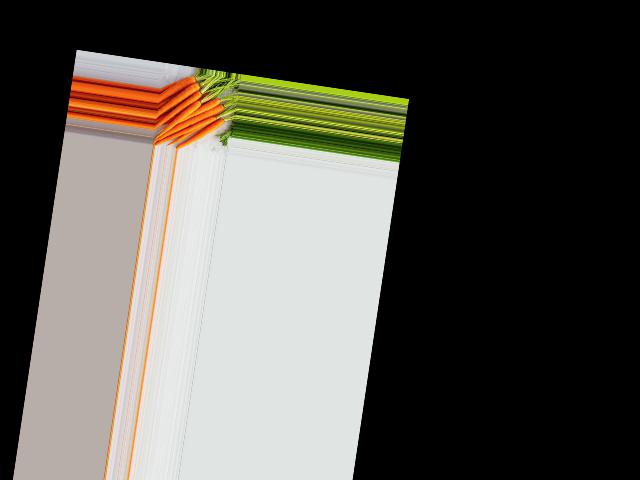carrot: (158, 71, 197, 102)
